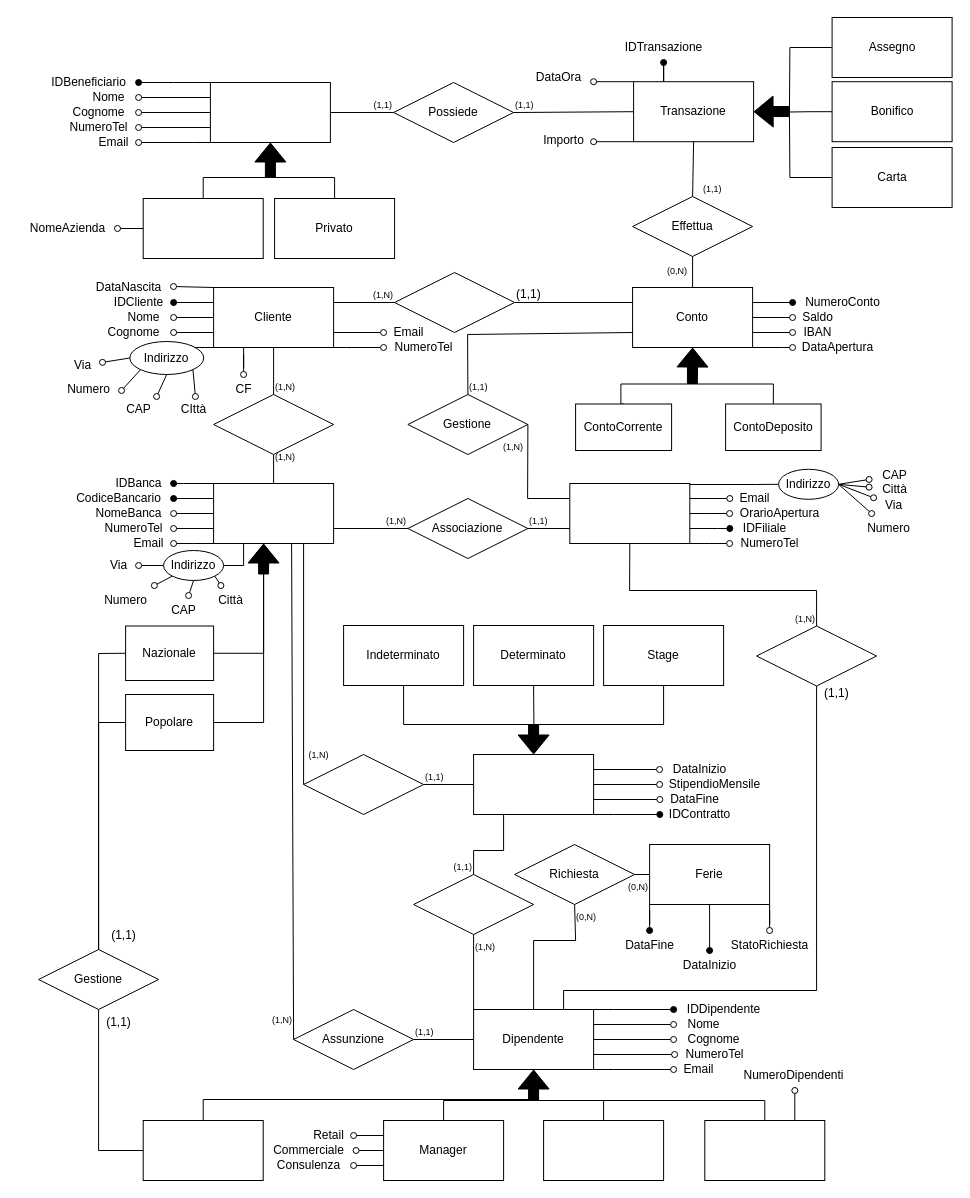
Image size: 970x1198. Some labels were removed from this diagram. Here are the shapes that lost their labels. From the top down, the box of each, then its label:
(209, 82, 330, 142): Beneficiario
(142, 198, 263, 258): Azienda
(394, 272, 515, 332): Detiene
(213, 394, 334, 454): Rapporto
(213, 482, 334, 544): Banca
(569, 482, 690, 544): Filiale
(756, 625, 877, 686): Impiego
(303, 754, 424, 814): Stipulazione
(473, 754, 594, 814): Contratto
(413, 874, 534, 934): Possesso
(142, 1120, 263, 1180): Dirigente
(543, 1120, 664, 1180): DirigenteFiliale
(704, 1120, 825, 1180): DipendentiUfficio
